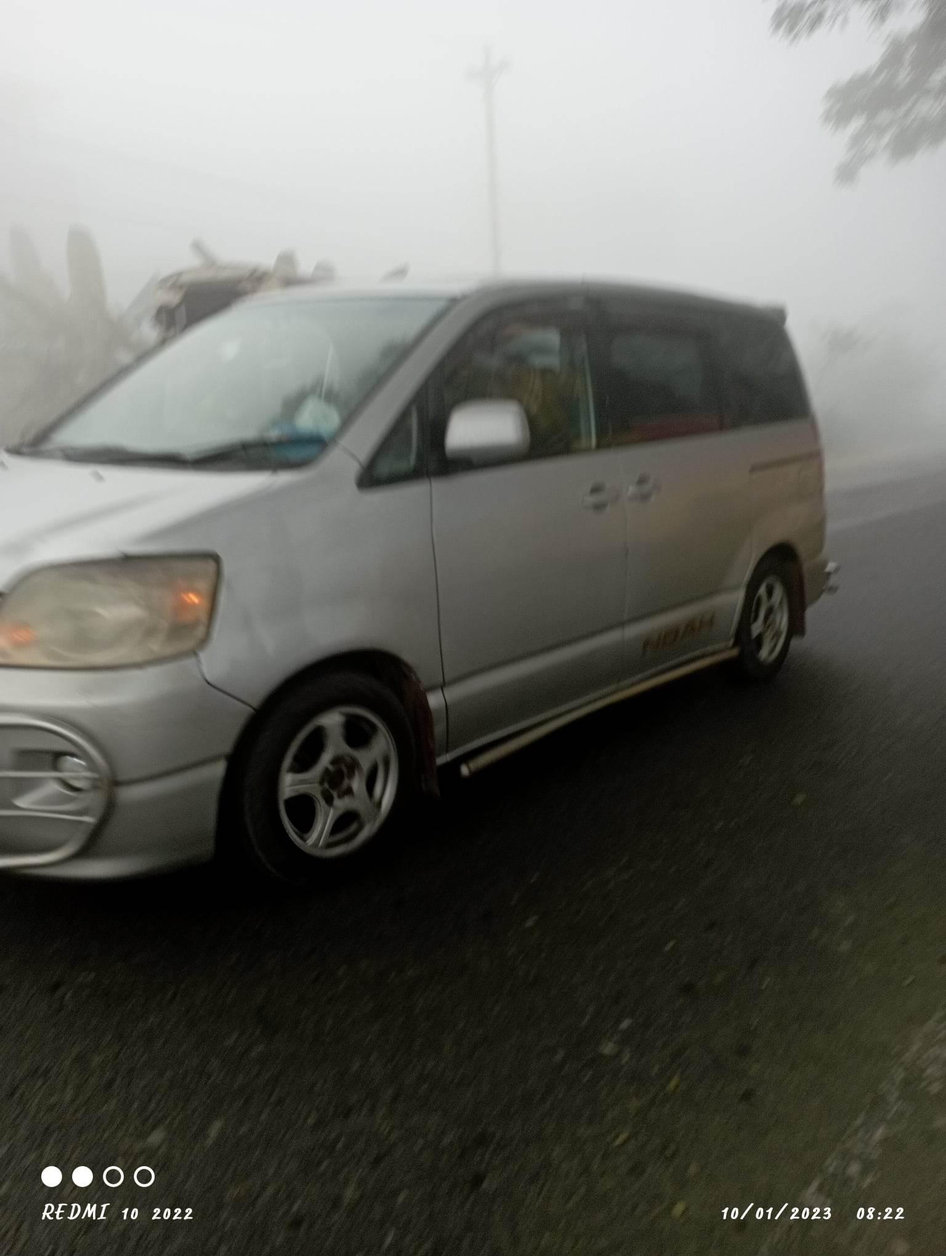Car: (11, 273, 867, 892)
